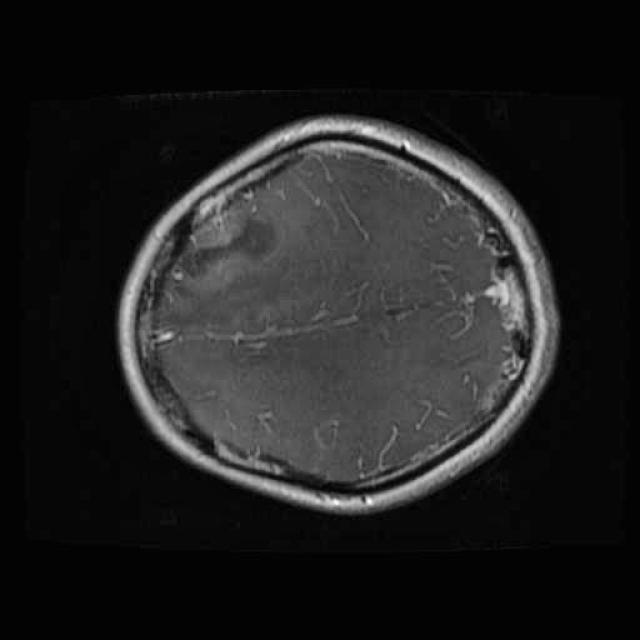Non-Tumor: (164, 186, 296, 306)
